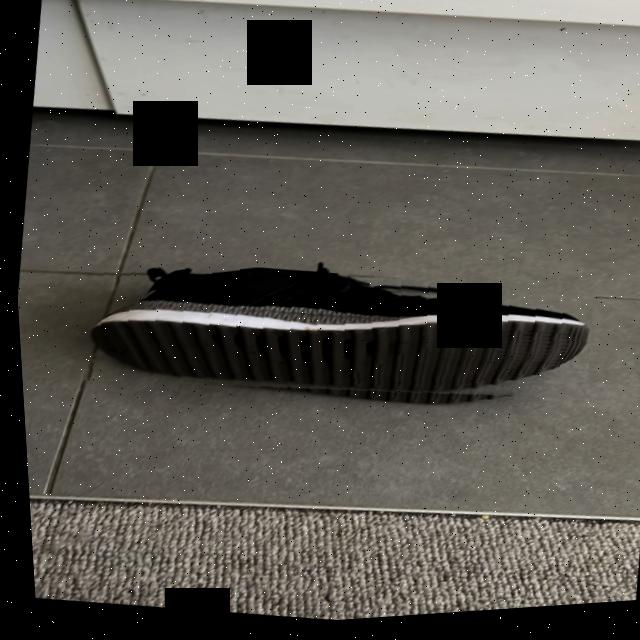shoe: (71, 230, 596, 451)
